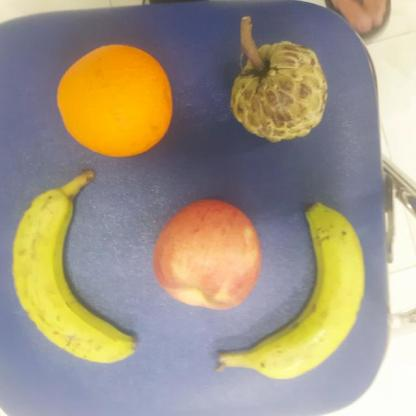annona: (229, 42, 327, 143)
apple: (152, 200, 262, 311)
banana: (215, 204, 365, 381), (11, 168, 137, 364)
orange: (57, 44, 173, 159)
